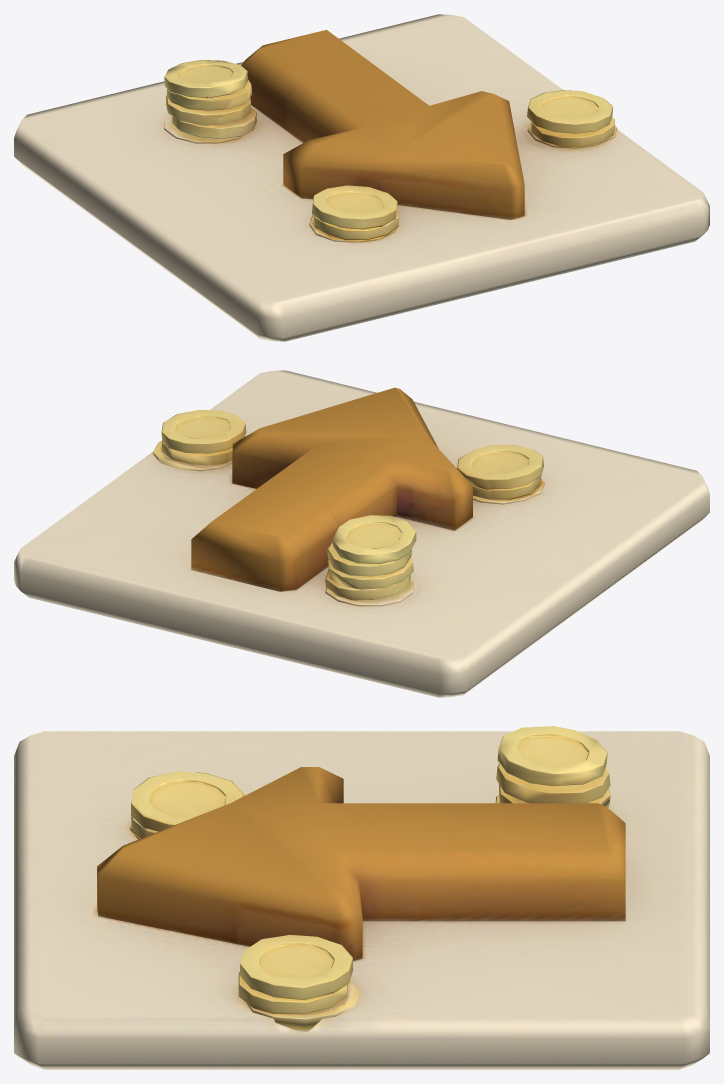
The model's file is start.glb.
3 renders of one model, top to bottom at view 1: azimuth 30°, elevation 25°; view 2: azimuth 150°, elevation 25°; view 3: azimuth 270°, elevation 25°, orthographic. The views are drawn at different scales.
Parts seen in each view (by area): view 1: tripo_node_d82adf9b-ba0f-45f9-befa-88ff03eee6cc; view 2: tripo_node_d82adf9b-ba0f-45f9-befa-88ff03eee6cc; view 3: tripo_node_d82adf9b-ba0f-45f9-befa-88ff03eee6cc.
Boxes of the visible parts, bbox=[...] form: tripo_node_d82adf9b-ba0f-45f9-befa-88ff03eee6cc: bbox=[14, 14, 709, 341]; tripo_node_d82adf9b-ba0f-45f9-befa-88ff03eee6cc: bbox=[14, 370, 709, 697]; tripo_node_d82adf9b-ba0f-45f9-befa-88ff03eee6cc: bbox=[14, 726, 709, 1069].
Size of the model in its own units: 0.9941 by 0.2012 by 0.998.
Materials: 1 (1 with a texture image).
